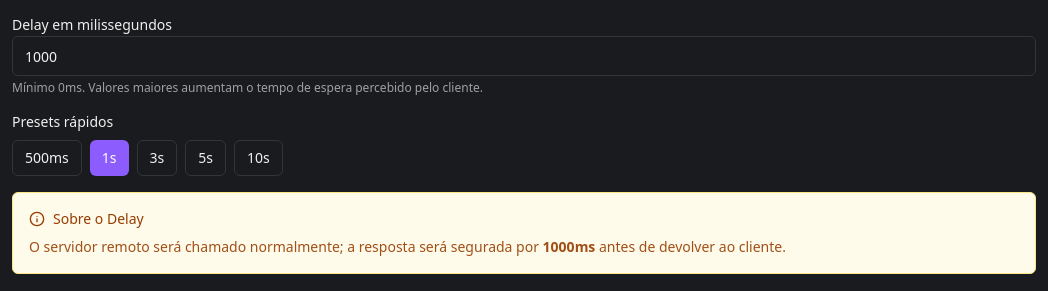
Scenario: DelayActionEditor — validação rejeita valores inválidos › mostra erro quando o valor não é numérico
The image size is (1048, 291).
Type "abc" into the number field with test id "delay-action-time-input".
click(524, 56); type("abc")  # box [12, 36, 1036, 76]
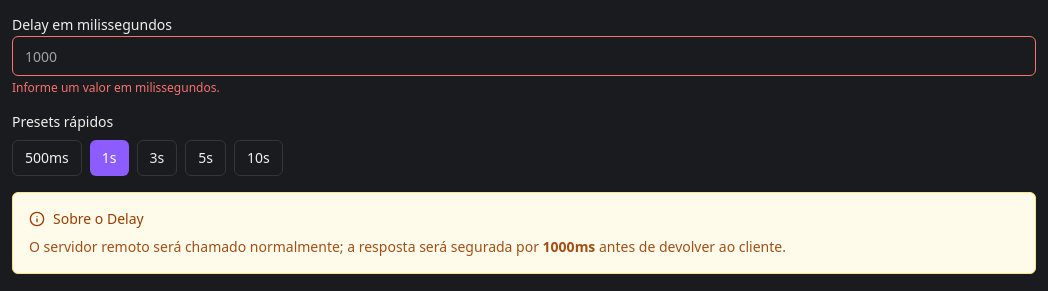
Expected: the text "Informe um valor em milissegundos." is shown, [12, 79, 220, 96]
